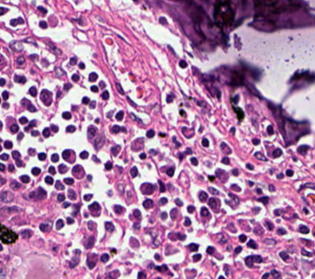nucleus: (245, 255, 262, 267), (40, 89, 51, 105), (140, 183, 154, 194), (215, 169, 227, 181), (34, 187, 46, 199), (48, 43, 61, 54), (208, 198, 219, 211), (233, 106, 243, 120), (72, 165, 83, 177), (95, 134, 104, 148), (88, 202, 99, 213), (87, 125, 96, 138), (221, 142, 231, 153), (254, 152, 267, 160), (104, 221, 114, 231), (297, 145, 308, 154), (229, 193, 238, 204), (86, 236, 94, 248), (155, 264, 167, 272), (111, 145, 120, 155), (198, 191, 207, 201), (143, 199, 153, 208), (279, 251, 288, 261), (116, 83, 124, 94), (257, 196, 268, 204), (39, 223, 50, 231), (70, 256, 78, 267), (55, 67, 64, 76), (272, 148, 281, 157), (62, 150, 71, 159), (200, 207, 209, 216), (130, 113, 140, 121), (114, 205, 124, 213), (265, 220, 273, 230), (298, 225, 308, 233), (87, 258, 95, 268), (158, 180, 165, 191), (170, 208, 177, 219), (187, 243, 198, 250), (301, 249, 312, 256), (89, 72, 97, 81), (58, 164, 66, 173), (31, 167, 40, 175), (166, 167, 174, 176), (247, 240, 256, 248), (100, 253, 108, 262), (271, 270, 280, 278), (173, 137, 180, 147), (230, 184, 240, 191), (68, 189, 75, 199), (56, 219, 63, 229), (146, 129, 154, 137), (55, 181, 63, 189), (206, 246, 214, 254), (29, 87, 36, 96), (101, 90, 108, 99), (116, 111, 123, 120), (66, 125, 75, 132), (111, 125, 120, 132), (42, 128, 49, 137), (130, 167, 137, 176), (209, 187, 218, 194), (133, 209, 140, 218), (88, 221, 95, 230), (176, 233, 185, 240), (192, 254, 201, 261), (128, 98, 135, 106), (62, 112, 70, 119), (50, 124, 58, 131), (190, 157, 197, 165), (45, 176, 52, 184), (239, 234, 246, 242), (267, 125, 273, 134), (64, 178, 73, 184), (83, 194, 92, 200), (274, 209, 283, 215), (184, 217, 190, 226), (277, 228, 286, 234), (179, 60, 186, 67), (71, 74, 78, 81), (64, 83, 71, 90), (80, 151, 87, 158), (51, 154, 58, 161), (222, 157, 229, 164), (286, 169, 293, 176), (57, 194, 64, 201), (159, 197, 166, 204), (175, 199, 182, 206), (187, 205, 194, 212), (234, 246, 241, 253), (232, 95, 238, 103), (202, 138, 208, 146), (105, 161, 111, 169), (49, 166, 55, 174), (30, 54, 37, 60), (70, 57, 76, 64), (91, 86, 98, 92), (166, 95, 172, 102), (89, 101, 95, 108), (252, 138, 259, 144), (38, 153, 45, 159), (246, 163, 253, 169), (138, 271, 145, 277), (31, 130, 39, 135), (82, 97, 88, 103), (185, 148, 191, 154), (93, 156, 99, 162), (232, 169, 238, 175), (67, 217, 73, 223), (161, 212, 166, 219), (79, 62, 84, 68), (99, 81, 104, 87), (139, 153, 145, 158), (277, 173, 283, 178), (269, 185, 274, 191), (63, 202, 69, 207), (253, 207, 259, 212), (155, 254, 160, 260), (262, 273, 268, 278), (94, 118, 99, 123), (208, 175, 213, 180), (256, 188, 261, 193), (303, 208, 308, 213), (134, 223, 139, 228), (230, 127, 234, 133), (159, 132, 165, 136), (150, 150, 156, 154), (107, 111, 111, 116), (121, 127, 126, 131), (87, 175, 91, 180), (248, 181, 253, 185), (57, 91, 60, 96), (180, 110, 183, 115), (179, 154, 182, 158), (111, 249, 115, 252)
